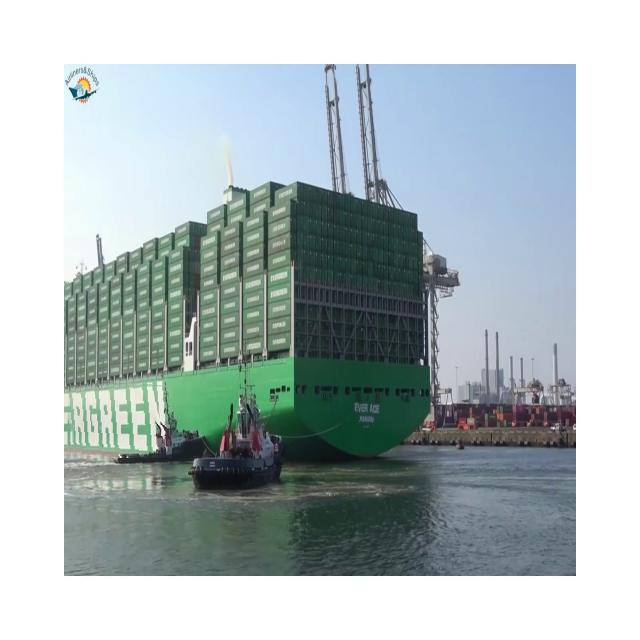OCR: (65, 381, 172, 458), (350, 394, 384, 432)
